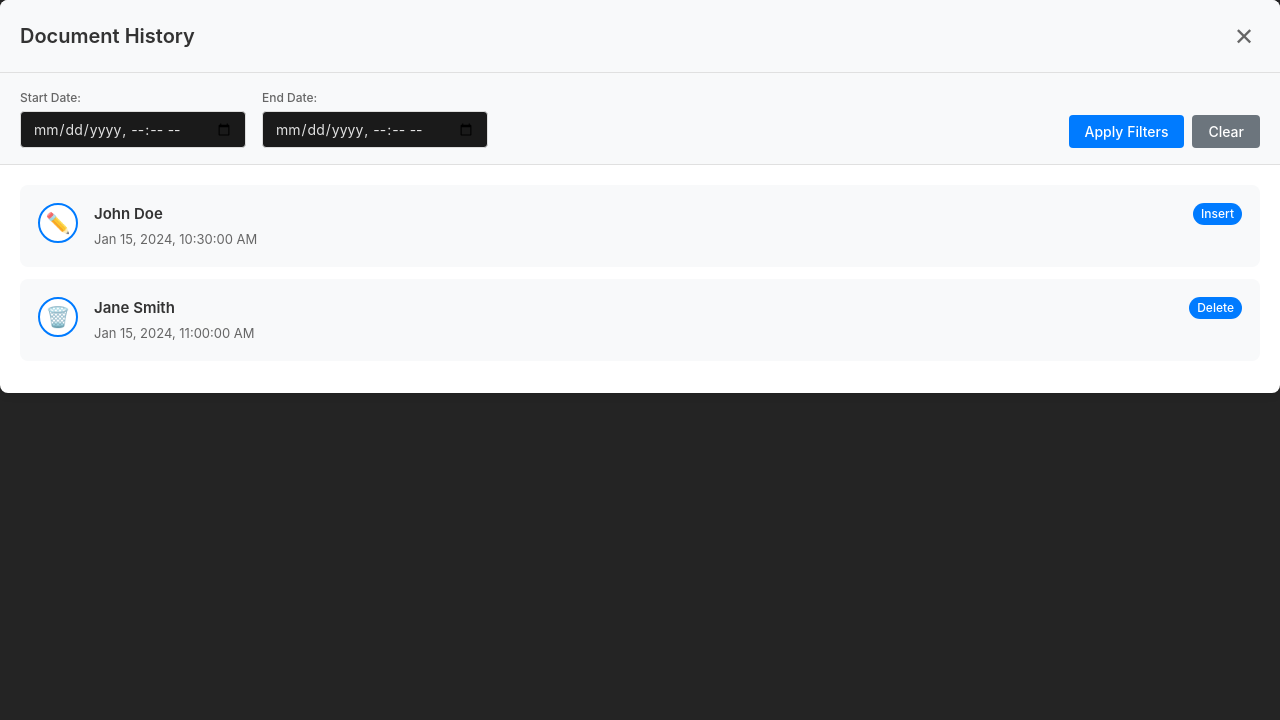
it: DocumentHistory - Restore Integration › allows canceling restore from confirmation dialog
Expected: the text "John Doe" is shown, [94,203,163,226]
// Click on a history item
Step 1. Click the button "John Doe" → coordinates (58, 223), box [20,185,1260,267]
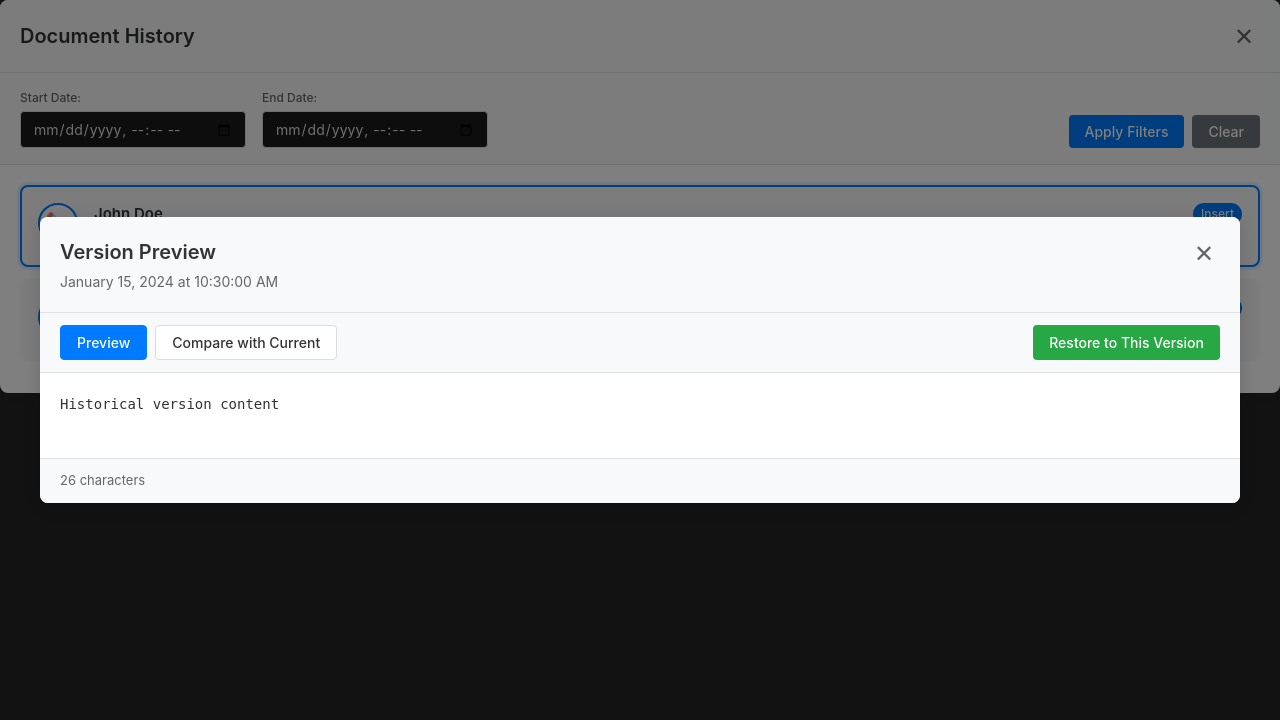
Expected: the heading "Version Preview" is shown, [60,240,216,264]
Expected: the text box holds "Historical version content", [40,373,1240,458]
// Click restore button
Step 2. Click the button "Restore to This Version" → coordinates (1127, 343), box [1033,325,1220,360]
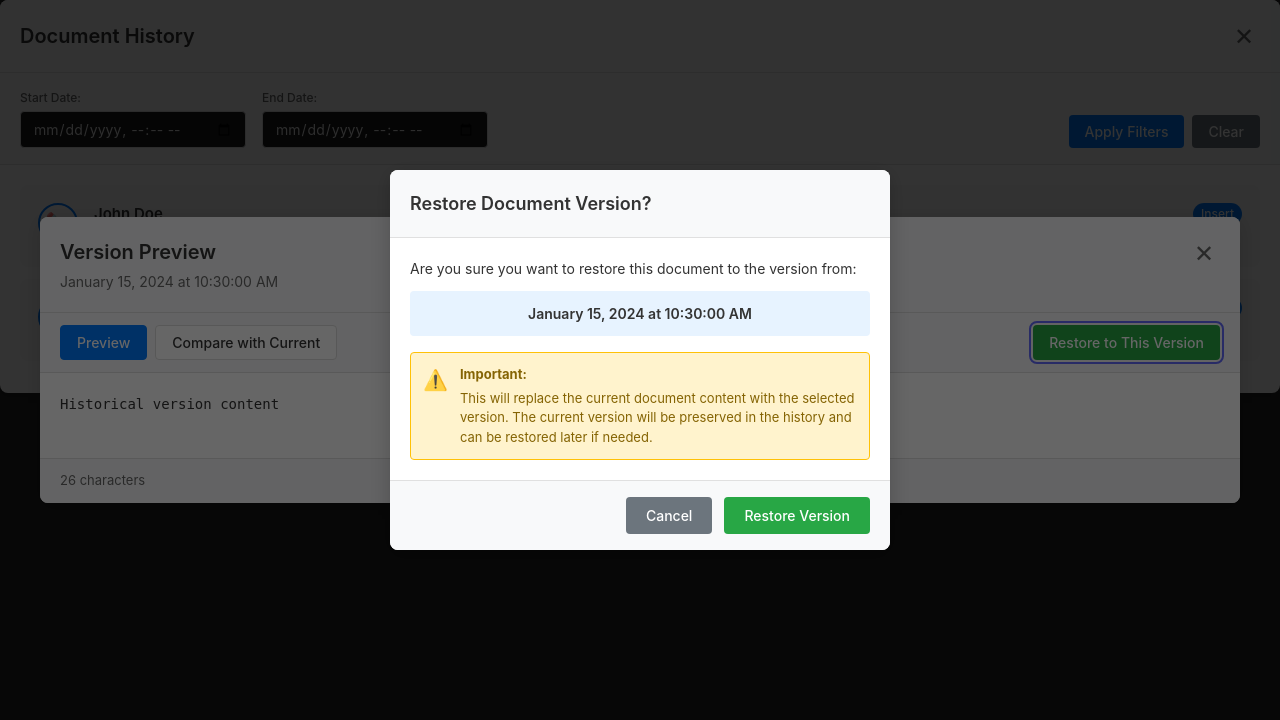
Expected: the heading "Restore Document Version?" is shown, [410,193,652,214]
// Click cancel
Step 3. Click the button "Cancel" → coordinates (669, 516), box [626,497,712,534]
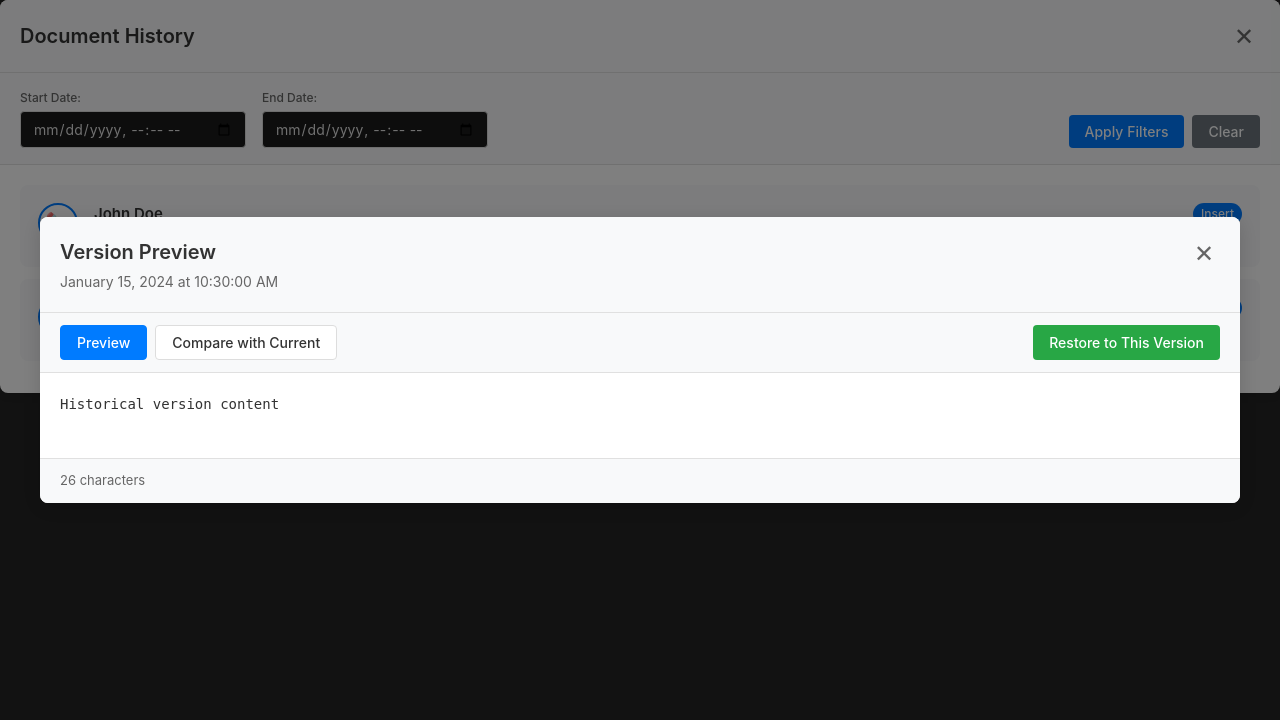
Expected: the heading "Restore Document Version?" is gone
